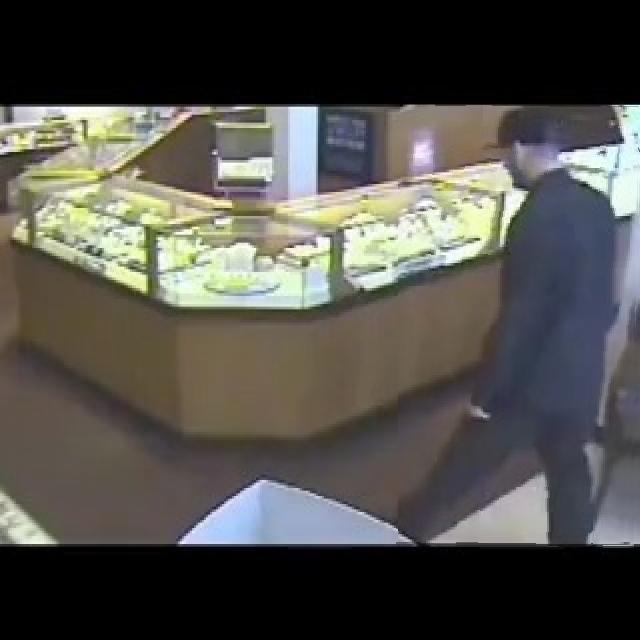Normal: (398, 105, 640, 547)
